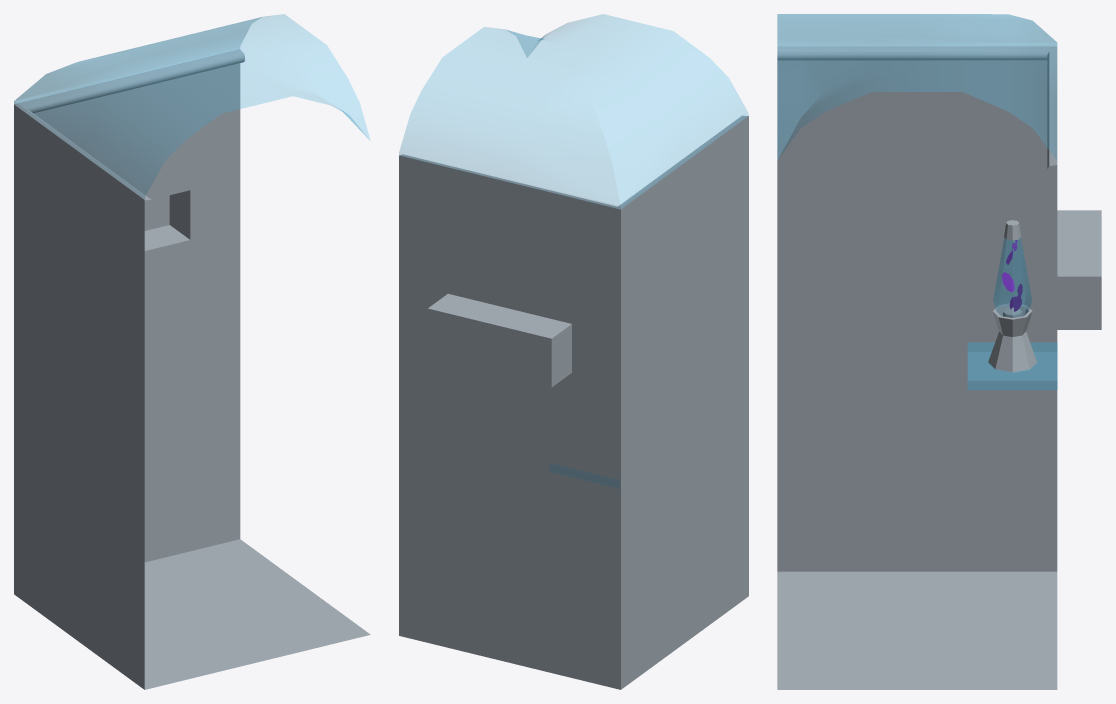
Rendered from RightTurn2Reagan.fbx.
3 renders of one model, left to right at view 1: azimuth 30°, elevation 25°; view 2: azimuth 150°, elevation 25°; view 3: azimuth 270°, elevation 25°, orthographic. The views are drawn at different scales.
Parts seen in each view (by area): view 1: RightTurn1; view 2: RightTurn1; view 3: RightTurn1.
Part boxes in pixels (bbox=[...]): RightTurn1: bbox=[14, 14, 370, 689]; RightTurn1: bbox=[399, 14, 748, 689]; RightTurn1: bbox=[777, 14, 1101, 689].
Size of the model in its own units: 1.2 by 2.83 by 1.39.
